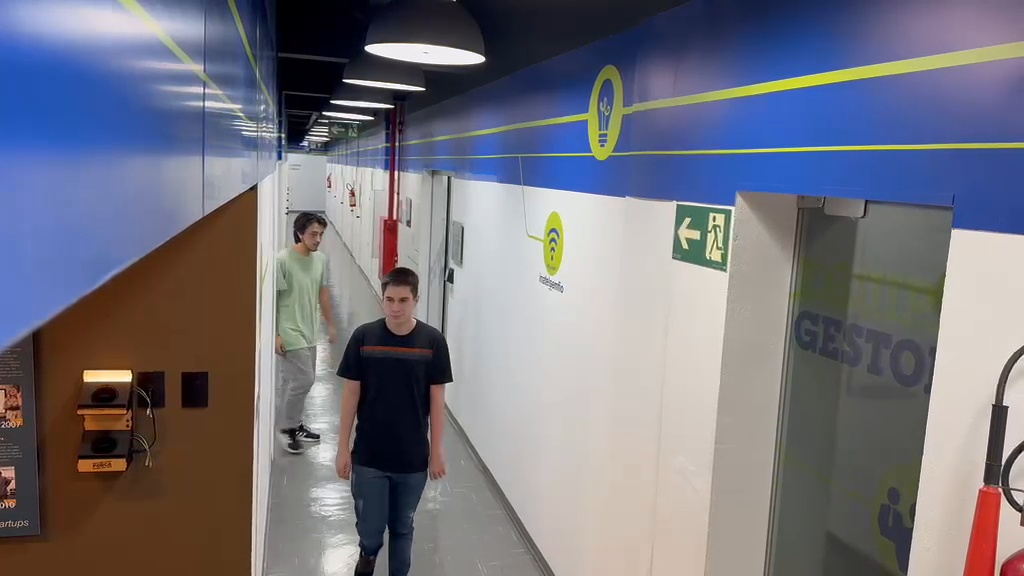person: (334, 265, 453, 573), (275, 211, 336, 454)
